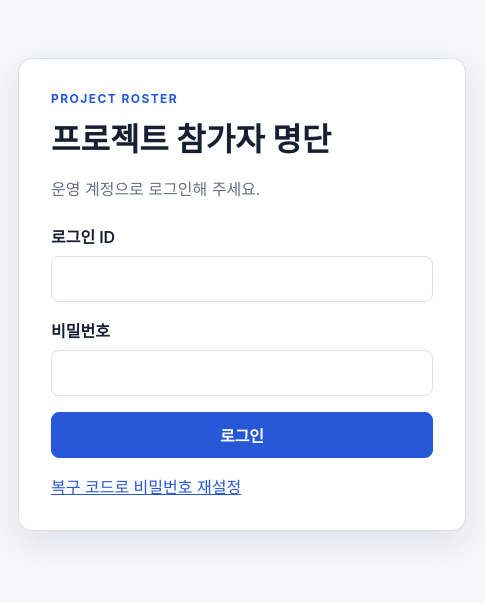
Test: shows pending feedback and prevents duplicate password changes
The image size is (485, 603).
Type "manager-01" into the field labelled "로그인 ID" at {"x": 242, "y": 278}, box [51, 256, 433, 302]
Type "temporary-password-123" into the password field labelled "비밀번호" at {"x": 242, "y": 372}, box [51, 350, 433, 396]
Click the button "로그인" at {"x": 242, "y": 434}, box [51, 412, 433, 458]
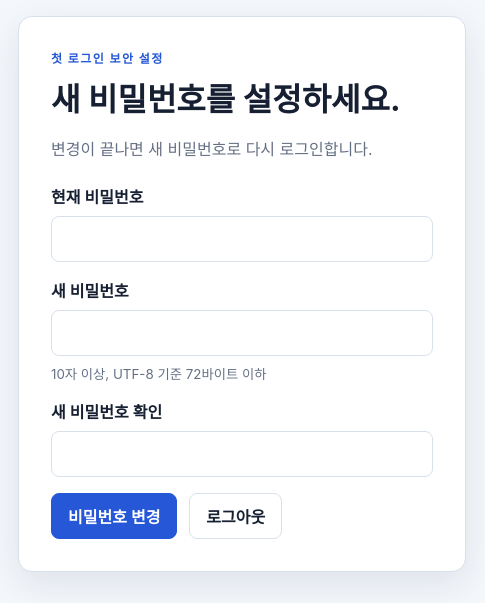
Check: the heading "새 비밀번호를 설정하세요." is shown, box [51, 74, 433, 120]
Type "temporary-password-123" into the password field labelled "현재 비밀번호" at {"x": 242, "y": 239}, box [51, 216, 433, 262]
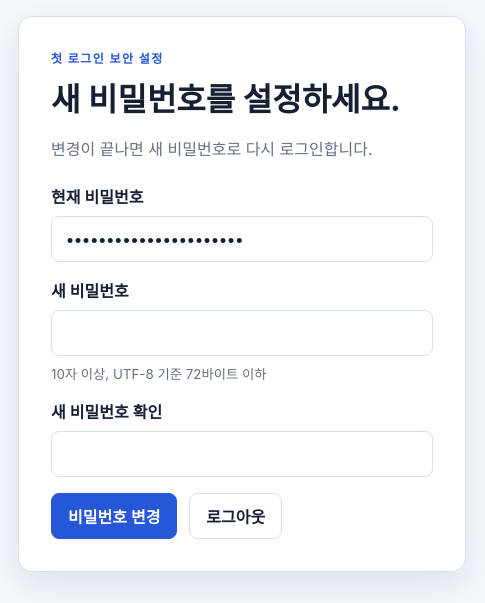
Type "new-password-123" into the password field labelled "새 비밀번호 10자 이상, UTF-8 기준 72바이트 이하" at {"x": 242, "y": 333}, box [51, 310, 433, 356]
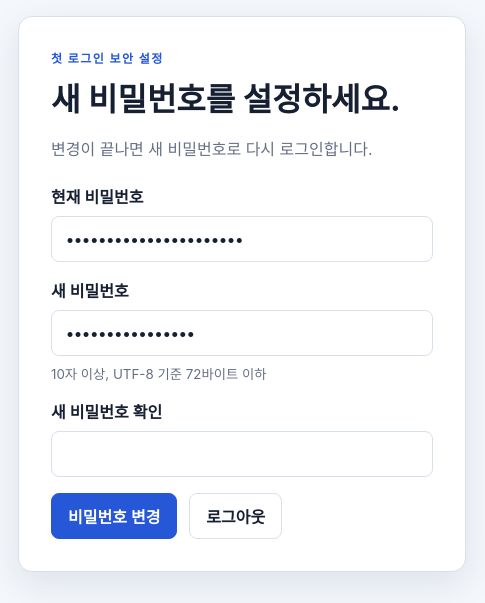
Type "new-password-123" into the password field labelled "새 비밀번호 확인" at {"x": 242, "y": 454}, box [51, 431, 433, 477]
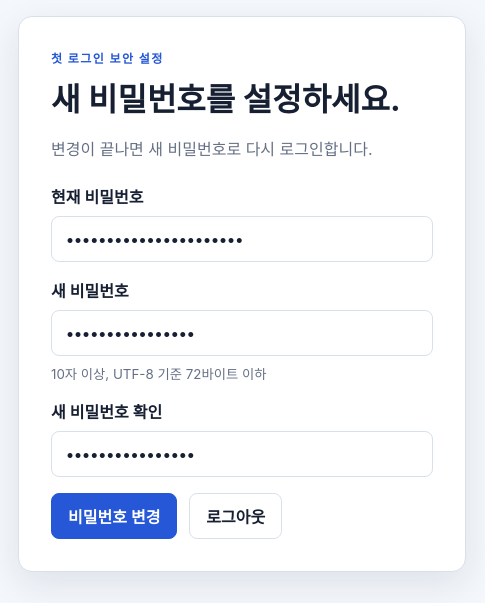
Click the button "비밀번호 변경" at {"x": 114, "y": 516}, box [51, 493, 177, 539]
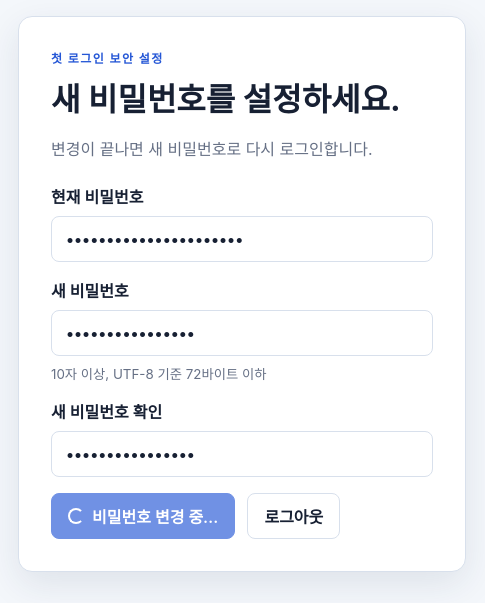
Check: the button "비밀번호 변경 중…" is disabled
Click the button "비밀번호 변경 중…" at {"x": 143, "y": 516}, box [51, 493, 235, 539]
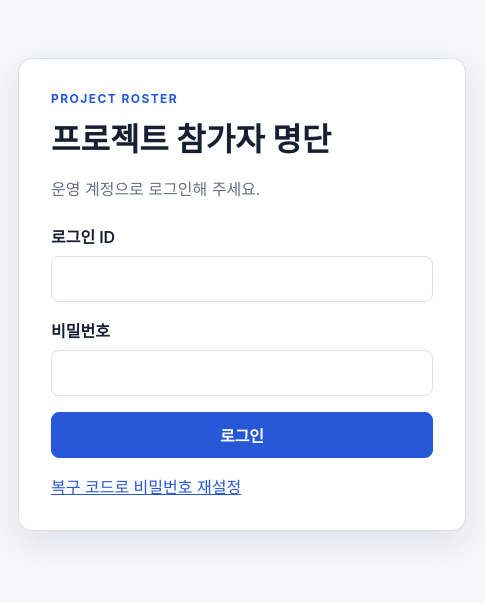
Check: the button "로그인" is shown, box [51, 412, 433, 458]
